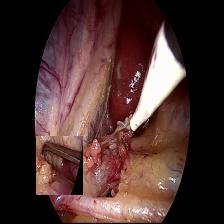Grasper: (36, 136, 83, 195)
Hook: (111, 22, 188, 143)
